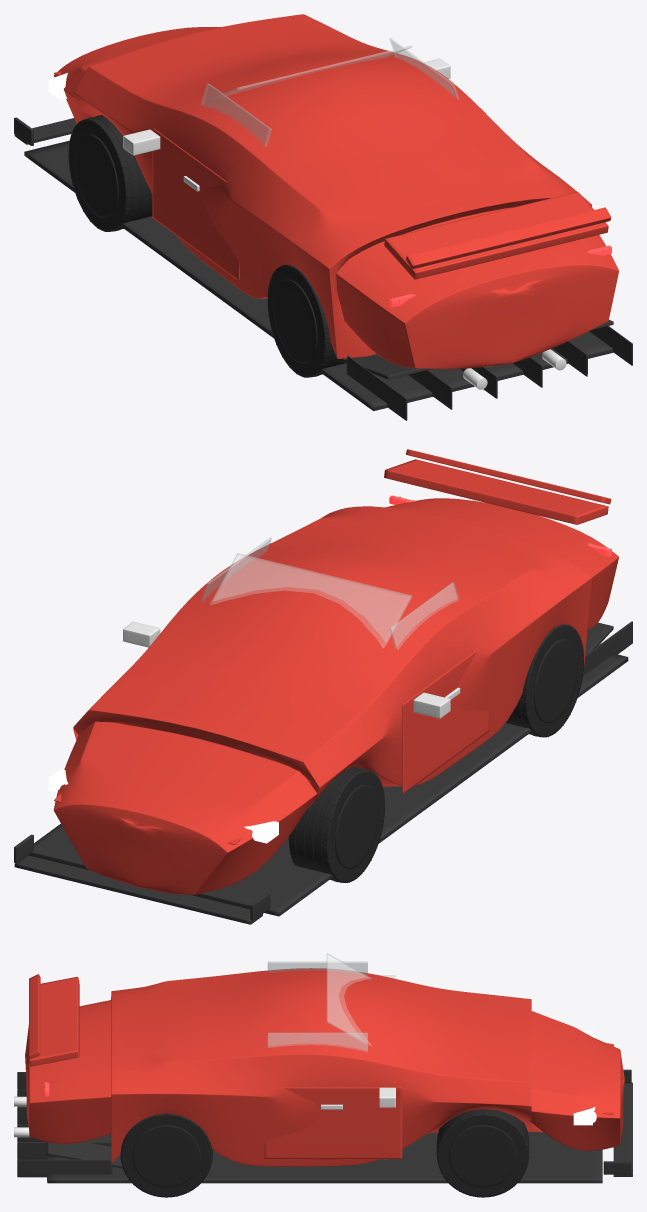
File: vehicle.opt.glb
The picture shows the model from 3 angles, top to bottom: view 1: azimuth 30°, elevation 25°; view 2: azimuth 150°, elevation 25°; view 3: azimuth 270°, elevation 25°; orthographic projection. The views are drawn at different scales.
Parts seen in each view (by area): view 1: BODY_MainShell, UNDERBODY_FlatFloor, AERO_SCRS_WhaleTailWing, WHEEL_FL_Tire, BODY_Door_FL, WHEEL_RL_Tire, GLASS_Greenhouse, JEWELRY_Hardware, AERO_FrontSplitter, JEWELRY_SCRS_DualExhaust; view 2: BODY_MainShell, UNDERBODY_FlatFloor, GLASS_Greenhouse, WHEEL_FL_Tire, AERO_SCRS_WhaleTailWing, BODY_Door_FL, WHEEL_RL_Tire, AERO_FrontSplitter, JEWELRY_Hardware, LIGHTING_Headlamps; view 3: BODY_MainShell, UNDERBODY_FlatFloor, BODY_Door_FR, WHEEL_FR_Tire, WHEEL_RR_Tire, AERO_SCRS_WhaleTailWing, GLASS_Greenhouse, AERO_FrontSplitter, JEWELRY_Hardware, LIGHTING_Headlamps.
Boxes of the visible parts, box(x1,y1,x2,y2) form: BODY_MainShell: box(53, 14, 618, 368); UNDERBODY_FlatFloor: box(24, 140, 632, 420); AERO_SCRS_WhaleTailWing: box(384, 192, 611, 279); WHEEL_FL_Tire: box(68, 115, 152, 231); BODY_Door_FL: box(152, 127, 239, 281); WHEEL_RL_Tire: box(267, 264, 344, 377); GLASS_Greenhouse: box(201, 38, 458, 146); JEWELRY_Hardware: box(123, 58, 450, 191); AERO_FrontSplitter: box(14, 117, 76, 145); JEWELRY_SCRS_DualExhaust: box(463, 349, 566, 389); BODY_MainShell: box(53, 498, 618, 894); UNDERBODY_FlatFloor: box(28, 621, 632, 916); GLASS_Greenhouse: box(201, 537, 458, 650); WHEEL_FL_Tire: box(288, 767, 385, 882); AERO_SCRS_WhaleTailWing: box(384, 449, 611, 524); BODY_Door_FL: box(402, 649, 489, 794); WHEEL_RL_Tire: box(505, 624, 584, 737); AERO_FrontSplitter: box(14, 834, 270, 924); JEWELRY_Hardware: box(123, 621, 460, 718); LIGHTING_Headlamps: box(48, 769, 278, 843); BODY_MainShell: box(25, 968, 624, 1166); UNDERBODY_FlatFloor: box(17, 1072, 602, 1183); BODY_Door_FR: box(264, 1087, 402, 1159); WHEEL_FR_Tire: box(436, 1109, 529, 1197); WHEEL_RR_Tire: box(120, 1113, 212, 1197); AERO_SCRS_WhaleTailWing: box(29, 974, 79, 1066); GLASS_Greenhouse: box(267, 953, 372, 1051); AERO_FrontSplitter: box(603, 1069, 632, 1176); JEWELRY_Hardware: box(320, 975, 395, 1109); LIGHTING_Headlamps: box(573, 1030, 596, 1125).
Size of what is drawn, in the model's own units: 2.09 by 1.27 by 4.44.
